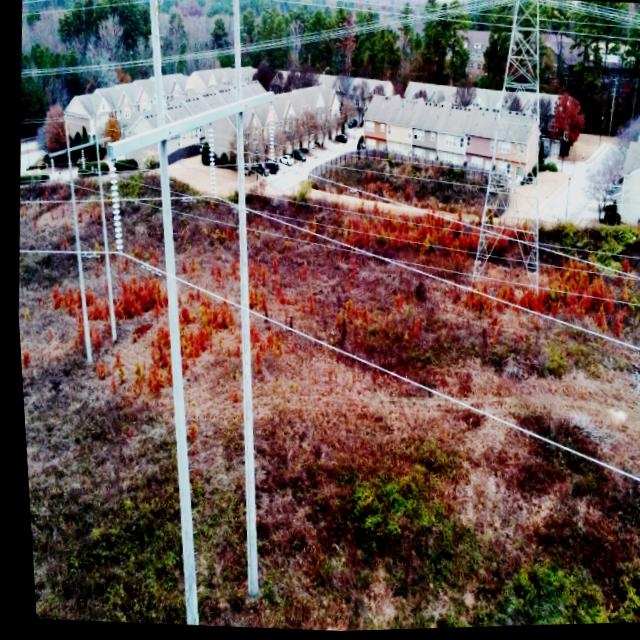poles: (108, 0, 271, 626), (468, 1, 539, 296), (62, 88, 112, 363)
wires: (245, 310, 640, 489), (243, 208, 640, 357), (241, 0, 533, 54), (538, 2, 640, 47), (20, 59, 150, 78), (176, 280, 235, 308), (162, 48, 231, 64), (115, 253, 160, 274)
